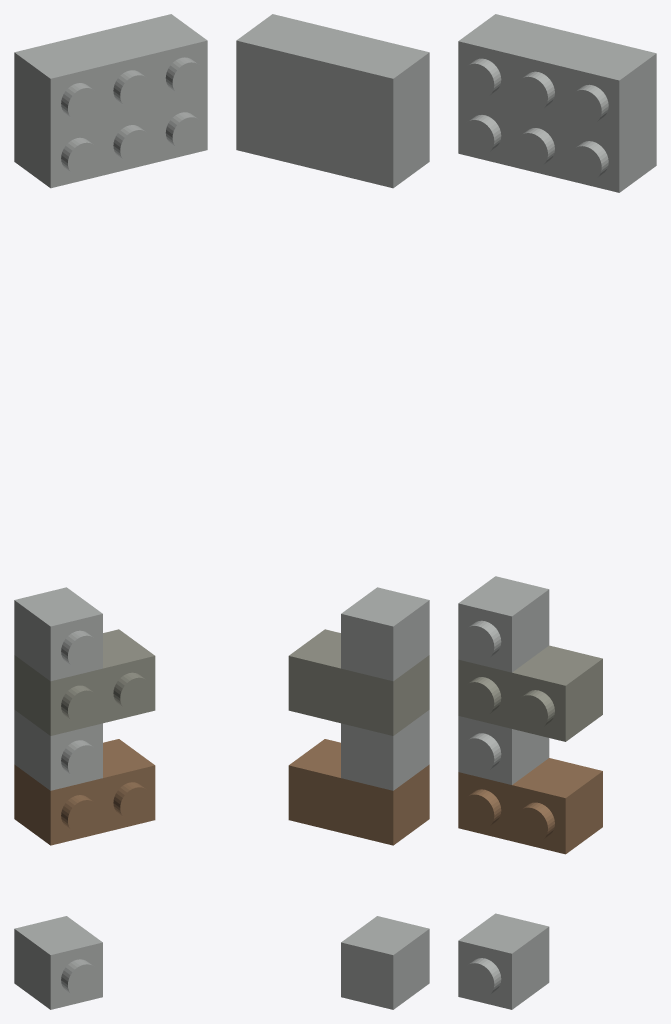
Rendered from current.glb.
The picture shows the model from 3 angles, left to right: view 1: azimuth 30°, elevation 25°; view 2: azimuth 150°, elevation 25°; view 3: azimuth 330°, elevation 25°; orthographic projection. The views are drawn at different scales.
Parts seen in each view (by area): view 1: world; view 2: world; view 3: world.
Part boxes in pixels (left/top/right/bottom): world: left=14, top=14, right=207, bottom=1009; world: left=236, top=14, right=429, bottom=1009; world: left=458, top=14, right=656, bottom=1009.
Size of the model in its own units: 24 by 136 by 11.4.
